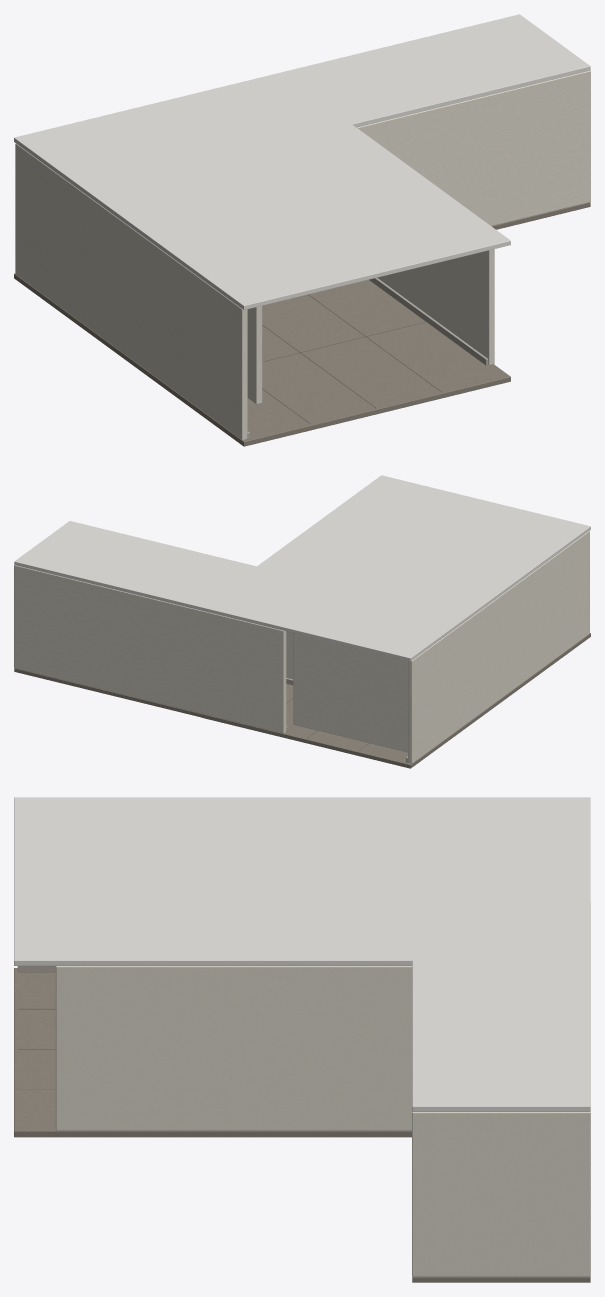
Rendered from gallery-architecture.glb.
3 renders of one model, top to bottom at view 1: azimuth 30°, elevation 25°; view 2: azimuth 150°, elevation 25°; view 3: azimuth 270°, elevation 25°, orthographic. The views are drawn at different scales.
Visible parts, largest first — view 1: Ceiling Entrance, Wall West, Floor Entrance, Ceiling Corridor, Corridor North, Wall East Entry, Foreground Partition, Base East, Hero End Wall; view 2: Ceiling Entrance, Corridor South, Wall West, Ceiling Corridor, Wall Far Left, Floor Entrance, Floor Corridor; view 3: Ceiling Entrance, Wall East Entry, Hero End Wall, Ceiling Corridor, Floor Entrance, Floor Corridor.
Part boxes in pixels (x1=…): Ceiling Entrance: x1=14, y1=73, x2=510, y2=309; Wall West: x1=15, y1=143, x2=247, y2=440; Floor Entrance: x1=14, y1=273, x2=510, y2=446; Ceiling Corridor: x1=172, y1=14, x2=590, y2=150; Corridor North: x1=357, y1=71, x2=587, y2=226; Wall East Entry: x1=377, y1=249, x2=494, y2=365; Foreground Partition: x1=247, y1=306, x2=262, y2=404; Base East: x1=369, y1=278, x2=488, y2=365; Hero End Wall: x1=586, y1=70, x2=590, y2=202; Ceiling Entrance: x1=201, y1=475, x2=590, y2=661; Corridor South: x1=16, y1=565, x2=286, y2=733; Wall West: x1=408, y1=531, x2=589, y2=763; Ceiling Corridor: x1=14, y1=521, x2=340, y2=630; Wall Far Left: x1=293, y1=634, x2=407, y2=752; Floor Entrance: x1=201, y1=633, x2=590, y2=768; Floor Corridor: x1=14, y1=668, x2=298, y2=736; Ceiling Entrance: x1=14, y1=797, x2=590, y2=965; Wall East Entry: x1=55, y1=966, x2=412, y2=1130; Hero End Wall: x1=412, y1=1110, x2=590, y2=1276; Ceiling Corridor: x1=412, y1=894, x2=590, y2=1111; Floor Entrance: x1=14, y1=968, x2=411, y2=1137; Floor Corridor: x1=412, y1=1276, x2=590, y2=1282.
Size of the model in its own units: 19.32 by 5.14 by 15.21.
6 materials, 2 textured.
